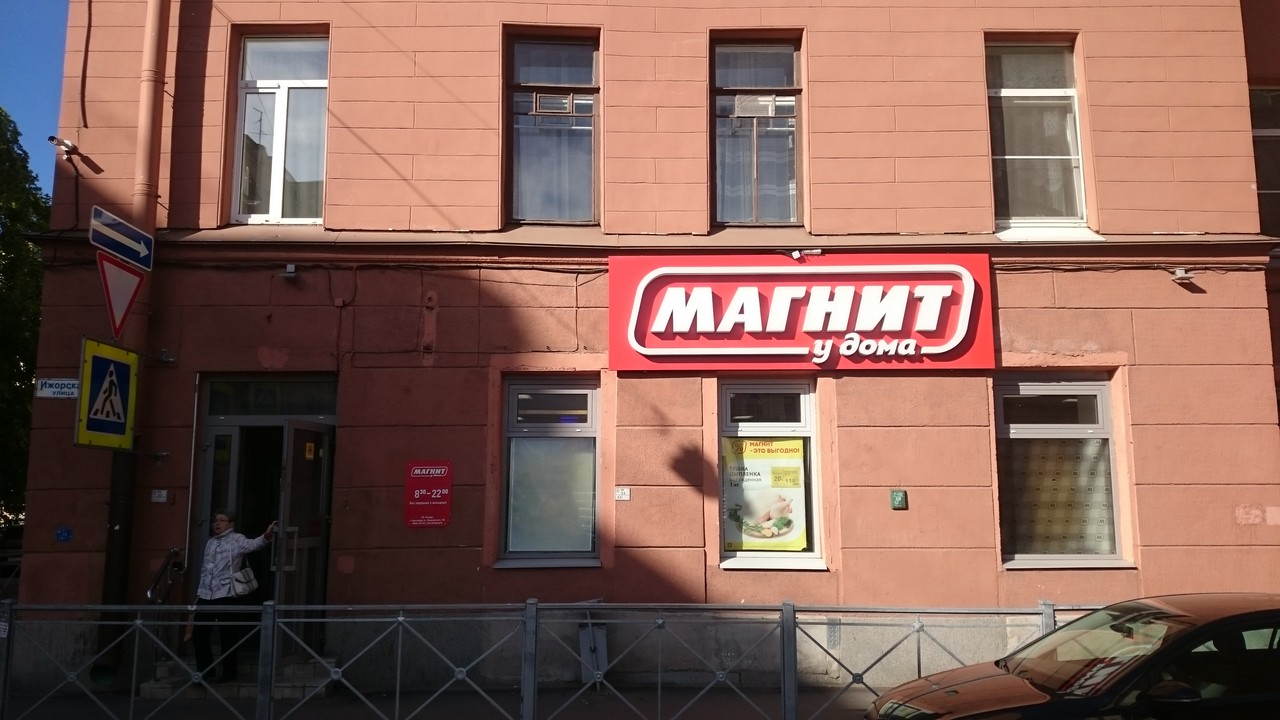signboard: (609, 251, 996, 370)
window: (713, 382, 823, 565), (1001, 380, 1109, 562), (233, 31, 329, 227), (988, 43, 1086, 225), (502, 377, 595, 562), (507, 41, 599, 225), (712, 40, 795, 225)
